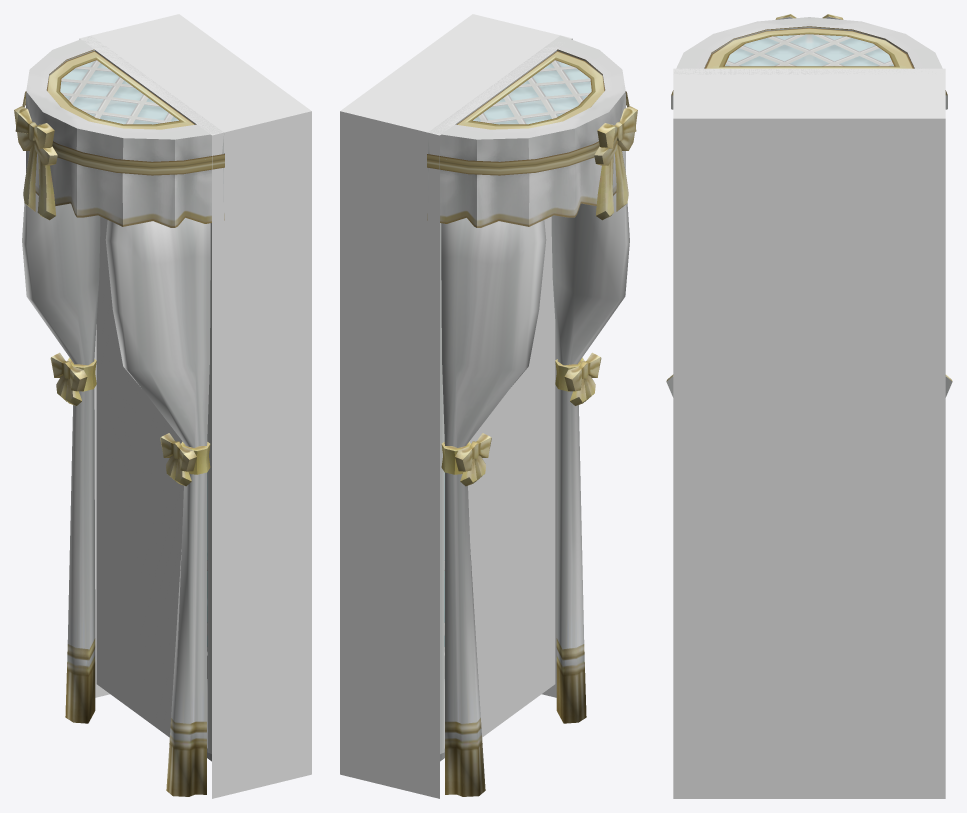
File: my_teaparty_01_window_01.glb
3 renders of one model, left to right at view 1: azimuth 30°, elevation 25°; view 2: azimuth 150°, elevation 25°; view 3: azimuth 270°, elevation 25°, orthographic. The views are drawn at different scales.
Parts seen in each view (by area): view 1: my_teaparty_01_window_01_cover, my_teaparty_01_window_01, my_teaparty_01_window_01_hole, my_teaparty_01_window_01_out; view 2: my_teaparty_01_window_01_cover, my_teaparty_01_window_01, my_teaparty_01_window_01_hole, my_teaparty_01_window_01_out; view 3: my_teaparty_01_window_01_cover, my_teaparty_01_window_01.
Part boxes in pixels (x1,y1,x2,y2): my_teaparty_01_window_01_cover: (79,14,311,798); my_teaparty_01_window_01: (14,35,224,796); my_teaparty_01_window_01_hole: (96,216,183,737); my_teaparty_01_window_01_out: (207,223,211,761); my_teaparty_01_window_01_cover: (340,14,572,798); my_teaparty_01_window_01: (427,35,637,796); my_teaparty_01_window_01_hole: (468,216,555,737); my_teaparty_01_window_01_out: (440,223,444,761); my_teaparty_01_window_01_cover: (673,68,945,798); my_teaparty_01_window_01: (666,14,952,397).
Size of the model in its own units: 0.0102 by 0.0297 by 0.0113.
5 materials, 3 textured.
